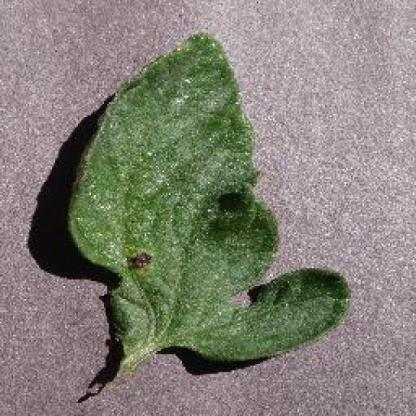Tomato_Blight: (69, 32, 348, 364)
